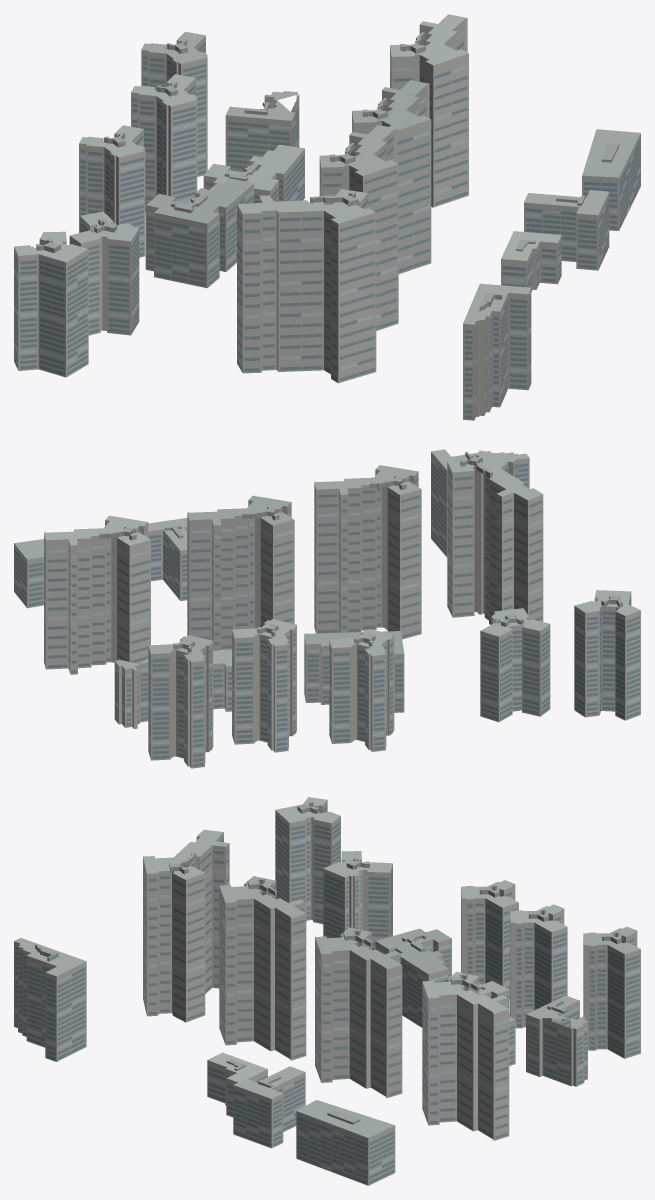
File: apt-a10023875.glb
The picture shows the model from 3 angles, top to bottom: view 1: azimuth 30°, elevation 25°; view 2: azimuth 150°, elevation 25°; view 3: azimuth 270°, elevation 25°; orthographic projection. The views are drawn at different scales.
Parts seen in each view (by area): view 1: apt-a10023875; view 2: apt-a10023875; view 3: apt-a10023875.
Boxes of the visible parts, <box> form: apt-a10023875: <box>14,14,640,420</box>; apt-a10023875: <box>14,449,640,768</box>; apt-a10023875: <box>14,797,640,1185</box>.
Size of the model in its own units: 355 by 85 by 329.
